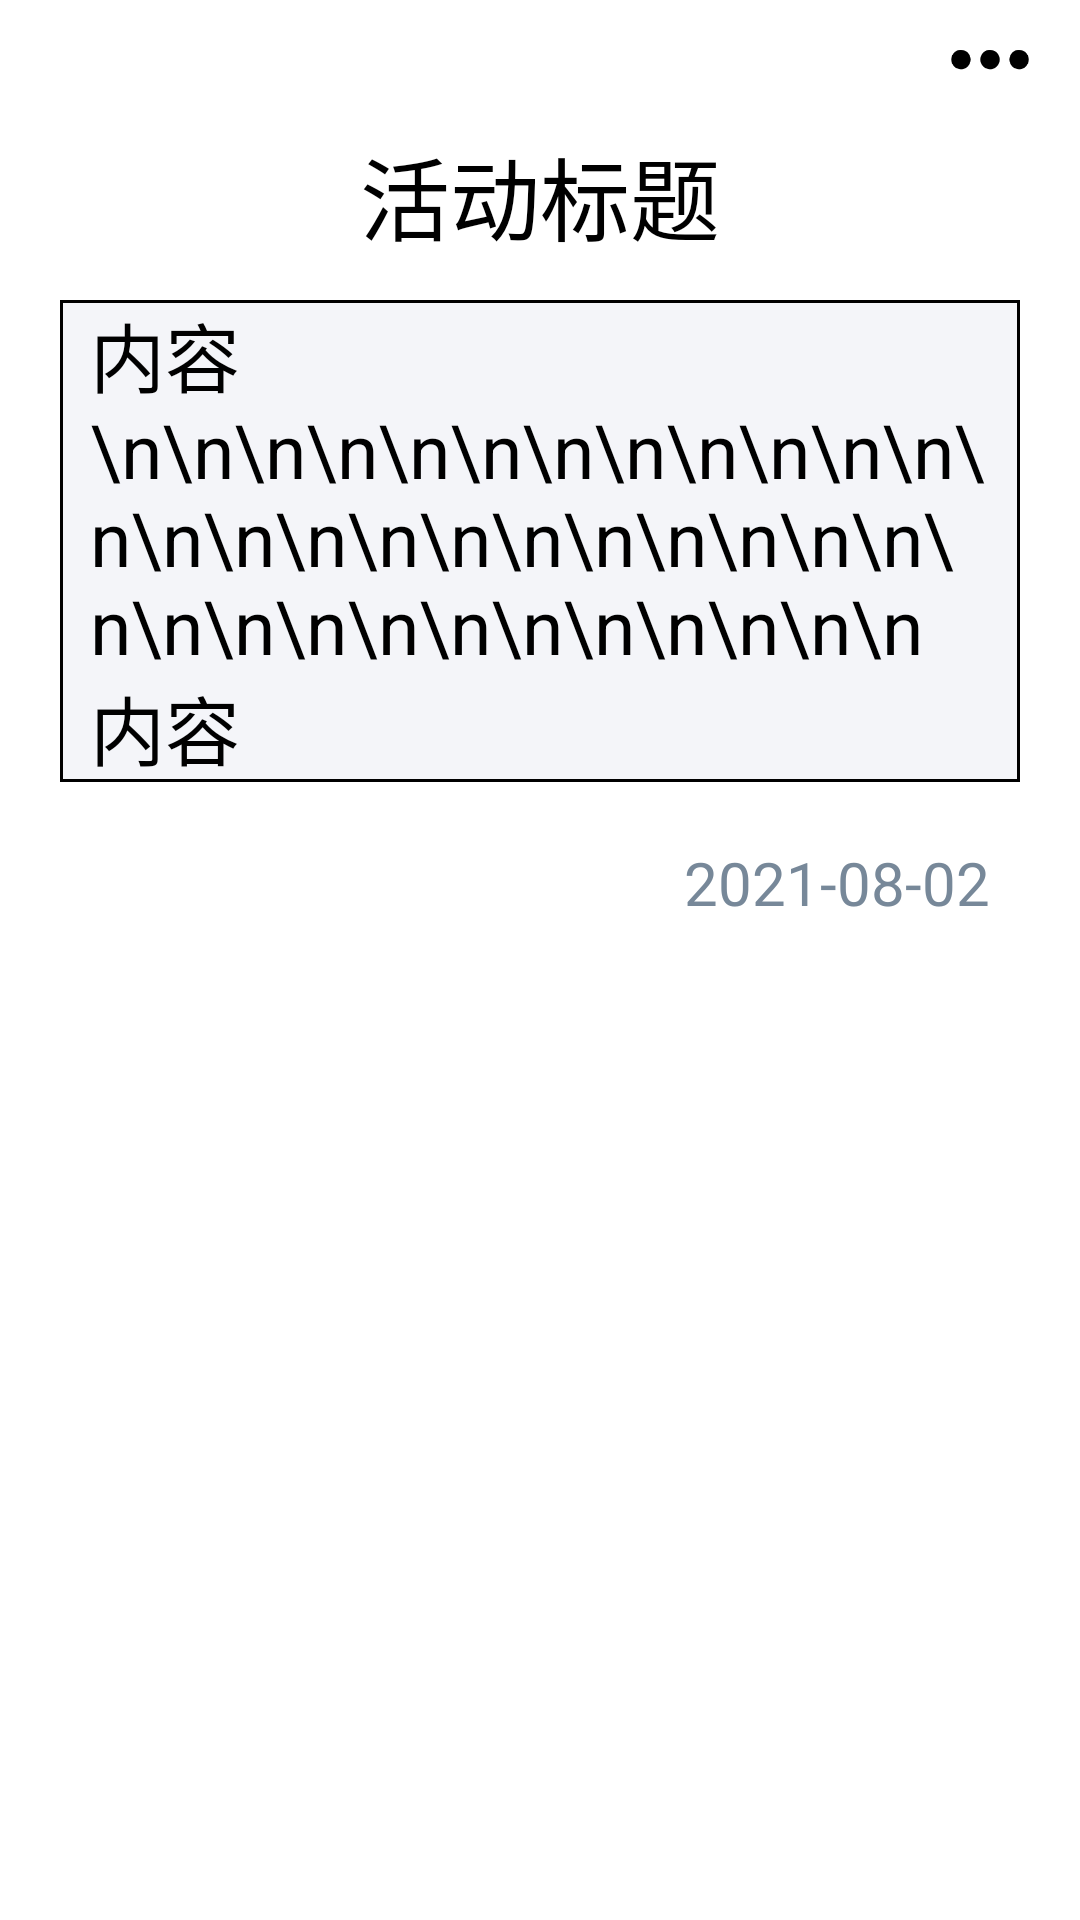

Icon click points for this 1080 × 1920 phone screenshot, format (x,y):
more: (990,60)
